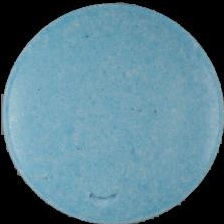55154-7717: (0, 0, 224, 224)
